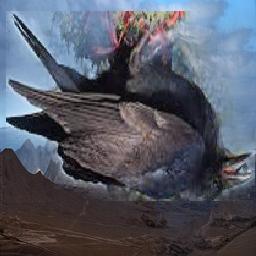Crow: (7, 11, 256, 201)
